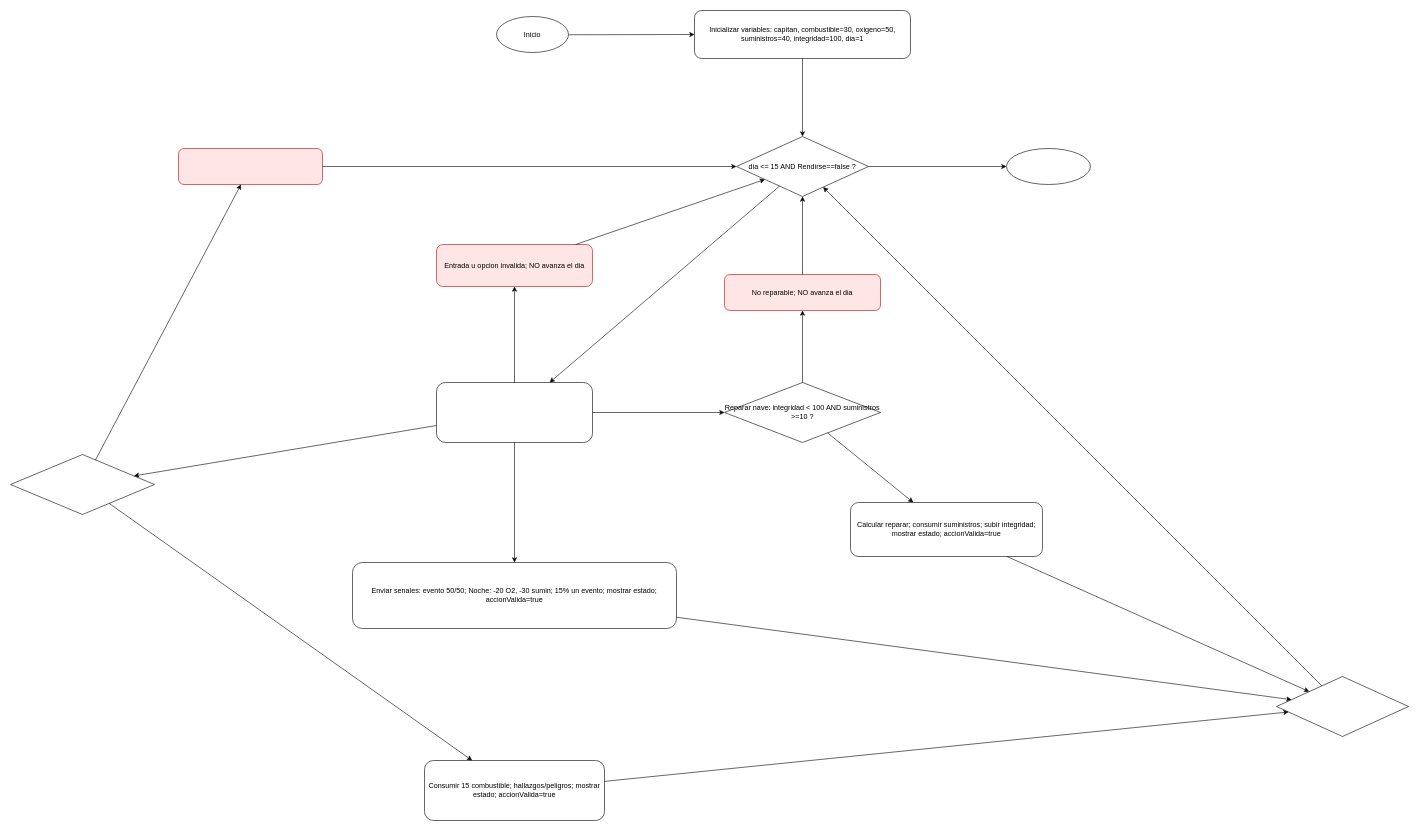
This 1419x831 diagram has some shape labels left out. Here are the shapes that lost their labels. From the top down, the centre of each, then its label:
(x=250, y=166): Sin combustible; NO avanza el dia
(x=1048, y=166): Fin del juego
(x=514, y=412): Mostrar estado y menu; leer opcion (1-4)
(x=82, y=484): Explorar planeta: combustible >= 15 ?
(x=1342, y=706): accionValida ? dia++ : dia igual
